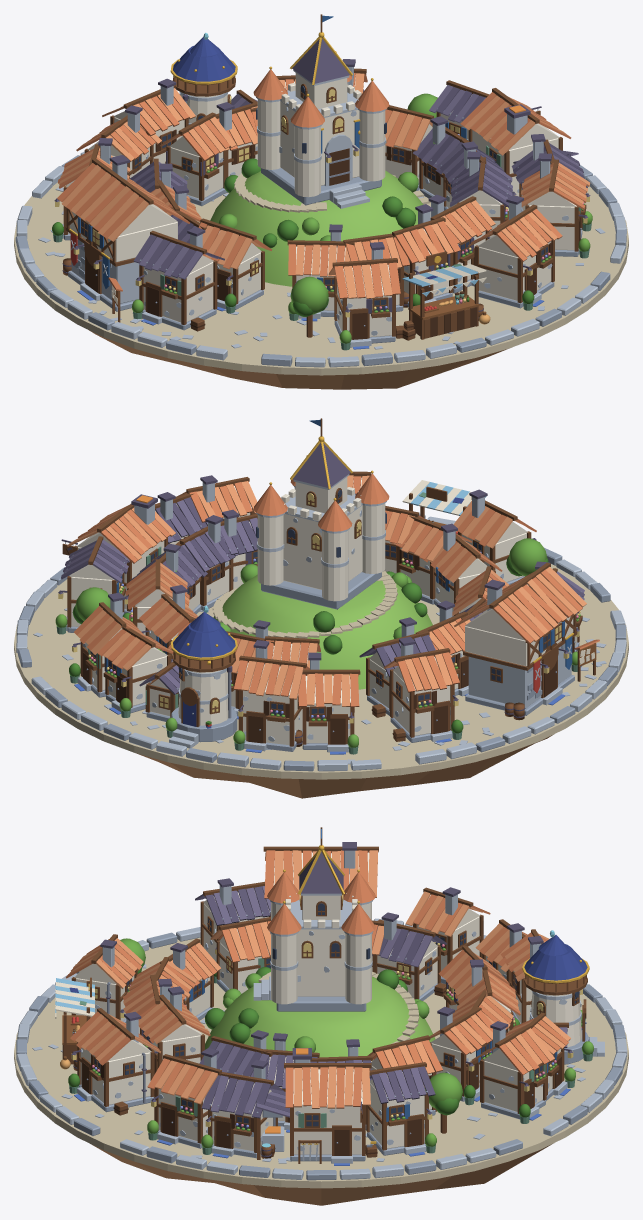
File: town.glb
3 views of the same model, one above another, from view 1: azimuth 30°, elevation 25°; view 2: azimuth 150°, elevation 25°; view 3: azimuth 270°, elevation 25° (orthographic).
Visible parts, largest first — view 1: ground_paving, castle_keep, castle_win_back_0_arch, castle_tower_0_roof, castle_stone_back_0, house_showcase_roof_p-1_1, castle_lantern_0_arm, hill, castle_base, inner_h14_roof_p-1_1, castle_gate_door, ground_earth (+11 smaller); view 2: castle_keep, ground_paving, castle_win_back_0_arch, castle_stone_back_0, castle_tower_0_roof, house_showcase_roof_p-1_1, castle_base, castle_lantern_0_arm, hill, ground_earth, inner_h14_roof_p-1_1, bush_0 (+10 smaller); view 3: castle_keep, ground_paving, castle_win_back_0_arch, castle_tower_0_roof, house_showcase_roof_p-1_1, castle_stone_back_0, castle_lantern_0_arm, hill, castle_base, inner_h14_roof_p-1_1, ground_earth, bush_0 (+9 smaller).
Part boxes in pixels (left/top/right/bottom): ground_paving: left=14, top=173, right=628, bottom=375; castle_keep: left=66, top=73, right=576, bottom=337; castle_win_back_0_arch: left=63, top=14, right=586, bottom=340; castle_tower_0_roof: left=57, top=69, right=586, bottom=298; castle_stone_back_0: left=16, top=66, right=626, bottom=367; house_showcase_roof_p-1_1: left=59, top=73, right=590, bottom=298; castle_lantern_0_arm: left=54, top=38, right=590, bottom=318; hill: left=210, top=170, right=423, bottom=286; castle_base: left=15, top=155, right=626, bottom=366; inner_h14_roof_p-1_1: left=133, top=85, right=583, bottom=279; castle_gate_door: left=85, top=129, right=580, bottom=339; ground_earth: left=89, top=330, right=507, bottom=389; castle_keep: left=69, top=477, right=577, bottom=745; ground_paving: left=14, top=564, right=628, bottom=779; castle_win_back_0_arch: left=62, top=418, right=595, bottom=746; castle_stone_back_0: left=16, top=474, right=626, bottom=771; castle_tower_0_roof: left=74, top=473, right=599, bottom=707; house_showcase_roof_p-1_1: left=67, top=475, right=586, bottom=706; castle_base: left=18, top=547, right=626, bottom=771; castle_lantern_0_arm: left=58, top=442, right=584, bottom=744; hill: left=213, top=574, right=432, bottom=689; ground_earth: left=137, top=734, right=553, bottom=798; inner_h14_roof_p-1_1: left=63, top=497, right=584, bottom=689; bush_0: left=55, top=538, right=580, bottom=747; castle_keep: left=74, top=853, right=581, bottom=1154; ground_paving: left=14, top=937, right=628, bottom=1188; castle_win_back_0_arch: left=63, top=827, right=587, bottom=1163; castle_tower_0_roof: left=66, top=850, right=568, bottom=1108; house_showcase_roof_p-1_1: left=70, top=850, right=570, bottom=1108; castle_stone_back_0: left=16, top=850, right=627, bottom=1179; castle_lantern_0_arm: left=71, top=842, right=583, bottom=1156; hill: left=205, top=976, right=435, bottom=1057; castle_base: left=16, top=932, right=625, bottom=1180; inner_h14_roof_p-1_1: left=195, top=886, right=567, bottom=1117; ground_earth: left=92, top=1144, right=551, bottom=1205; bush_0: left=92, top=938, right=593, bottom=1147.
Bounding box in the file's own units: 24 × 13.85 × 24.
